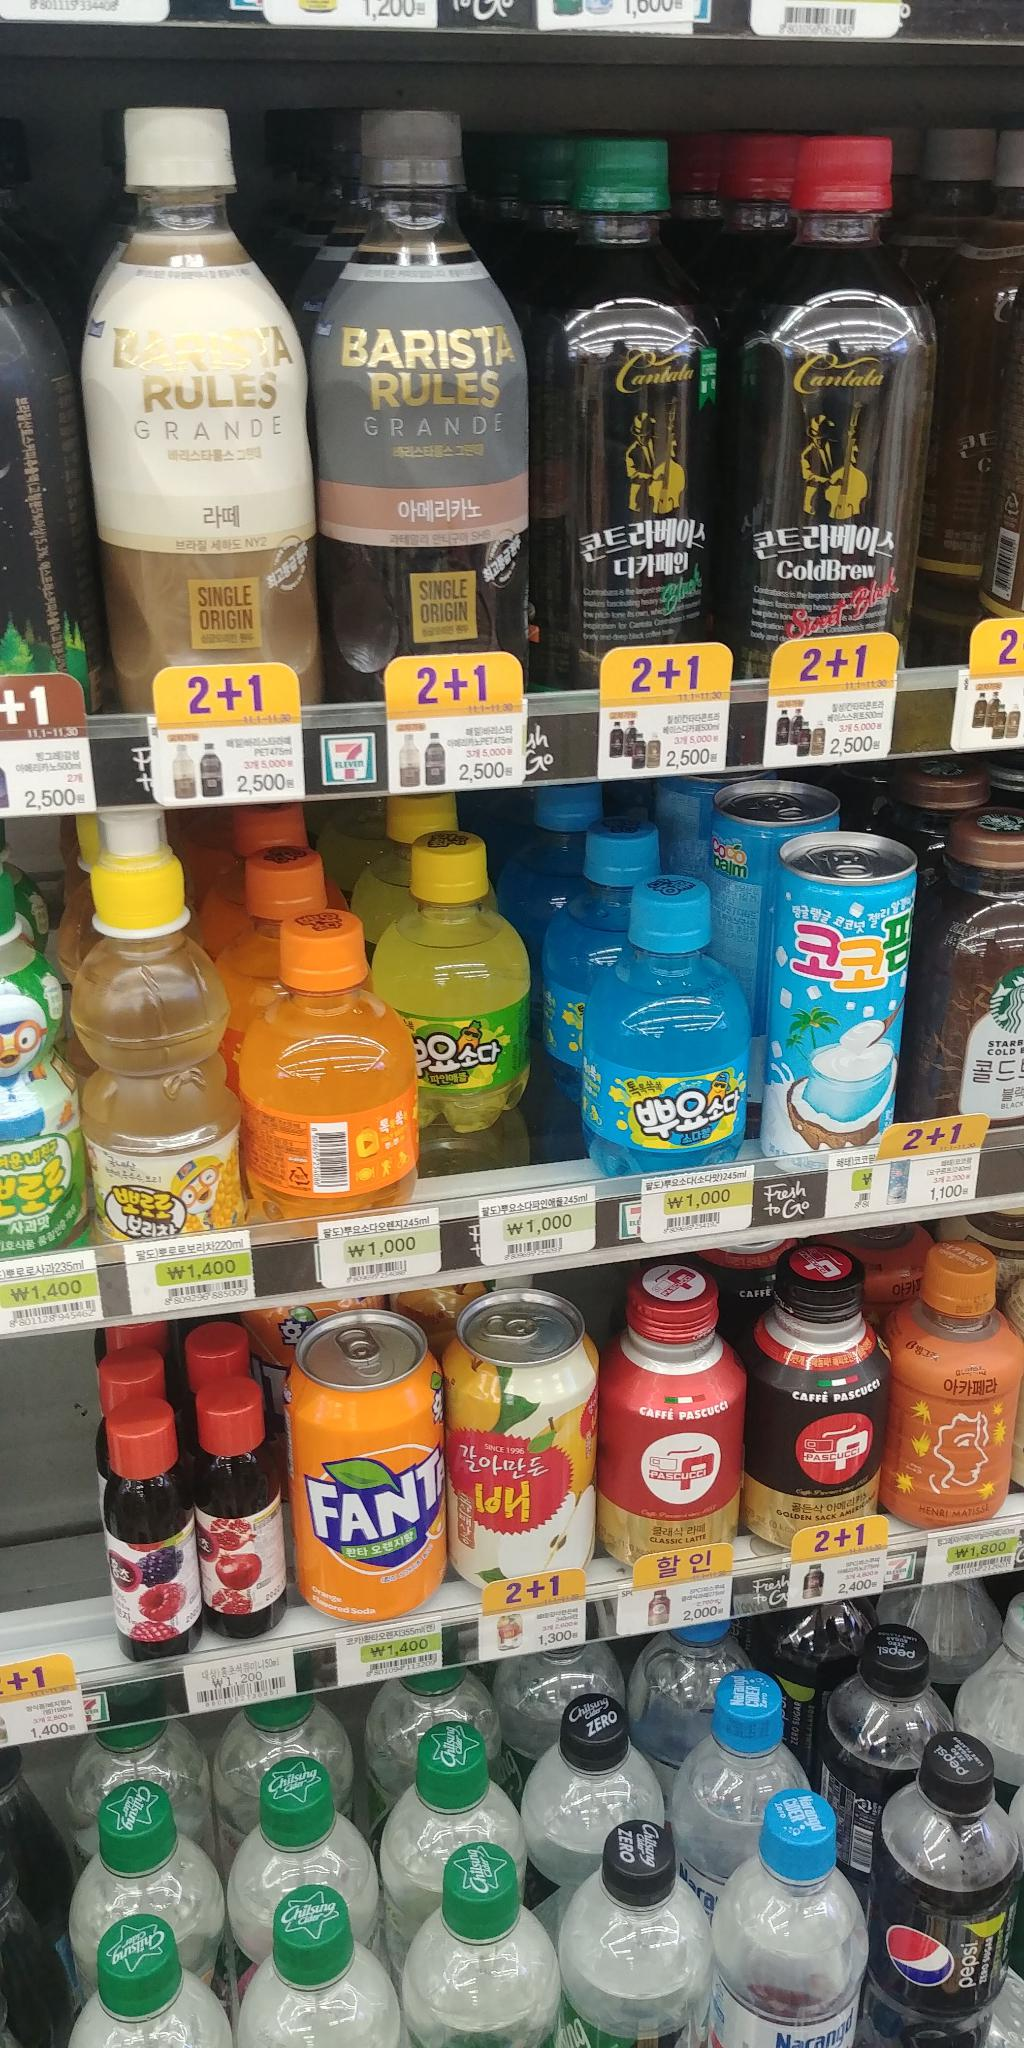contrabass_sweetblack: (737, 128, 930, 696)
fanta_orange: (280, 1302, 465, 1626)
